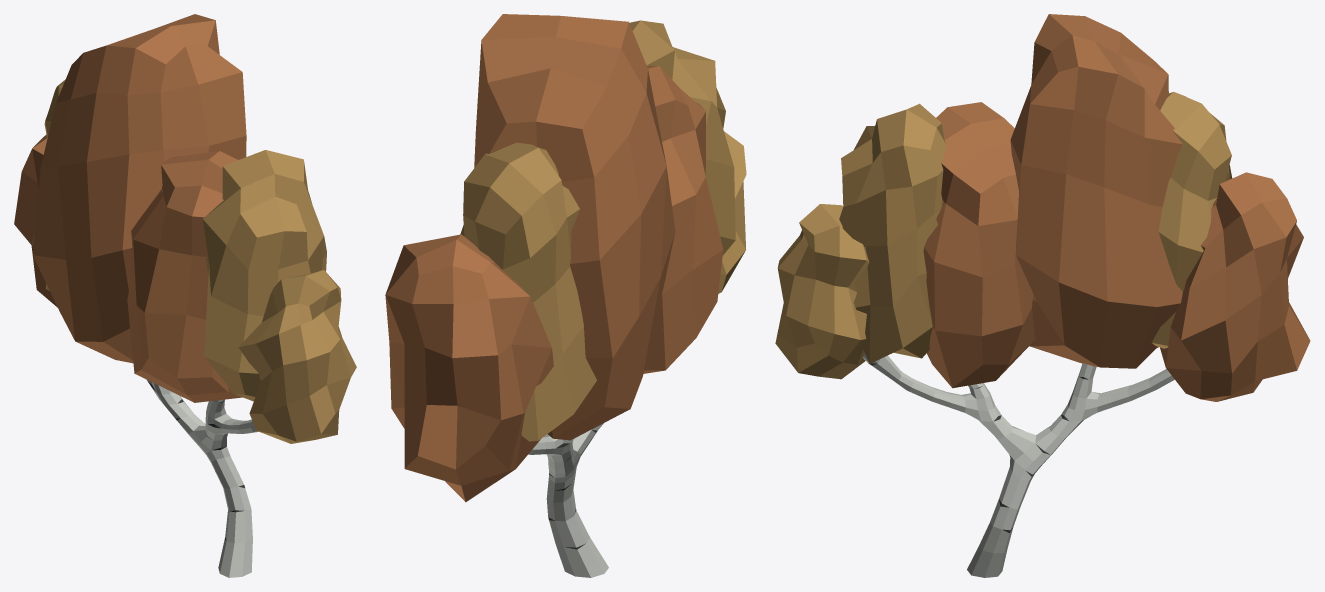
The model's file is BirchTree_Autumn_4.gltf.
3 renders of one model, left to right at view 1: azimuth 30°, elevation 25°; view 2: azimuth 150°, elevation 25°; view 3: azimuth 270°, elevation 25°, orthographic. The views are drawn at different scales.
Parts seen in each view (by area): view 1: BirchTree_Autumn_4; view 2: BirchTree_Autumn_4; view 3: BirchTree_Autumn_4.
Boxes of the visible parts, left/top/right/bottom form: BirchTree_Autumn_4: left=14, top=14, right=356, bottom=577; BirchTree_Autumn_4: left=385, top=14, right=746, bottom=577; BirchTree_Autumn_4: left=775, top=14, right=1310, bottom=577.
Bounding box in the file's own units: 1.15 × 3.56 × 3.29.
